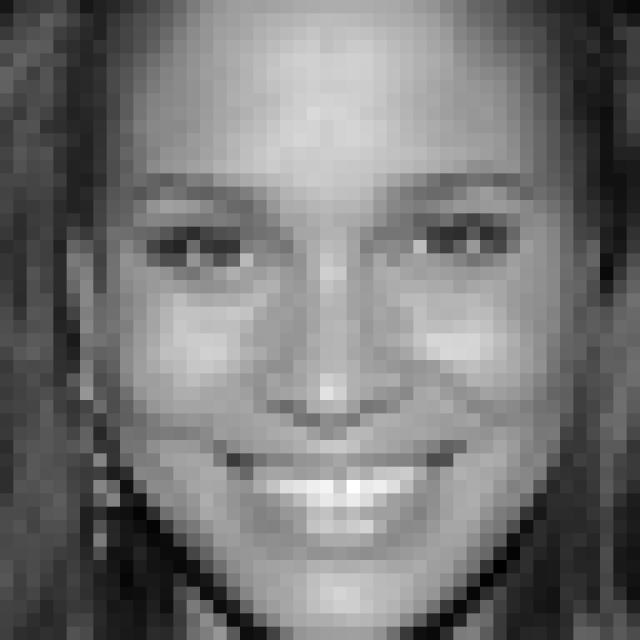happy: (116, 163, 554, 568)
